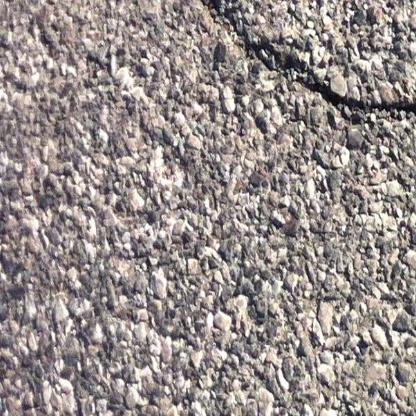Cracks: (166, 0, 416, 132)
